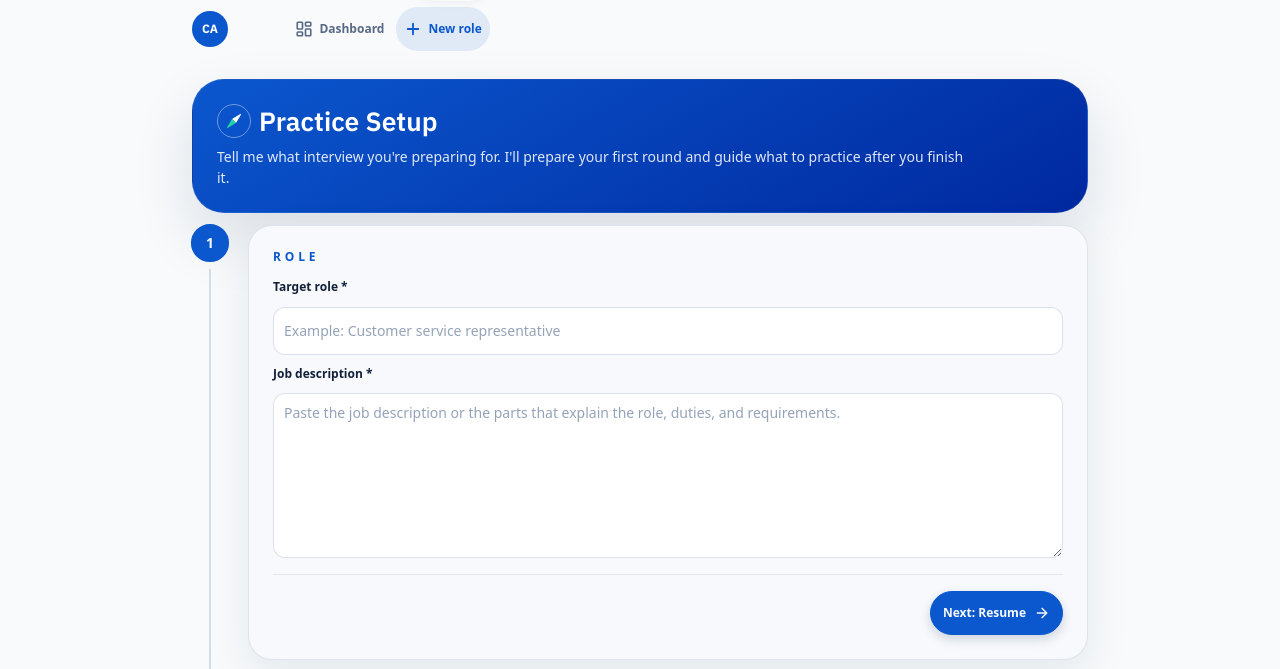
it: shows a setup-start error if the session boundary rejects the payload
In the field labelled "Target role *": (668, 331) [273, 307, 1063, 355], type "Customer service representative"
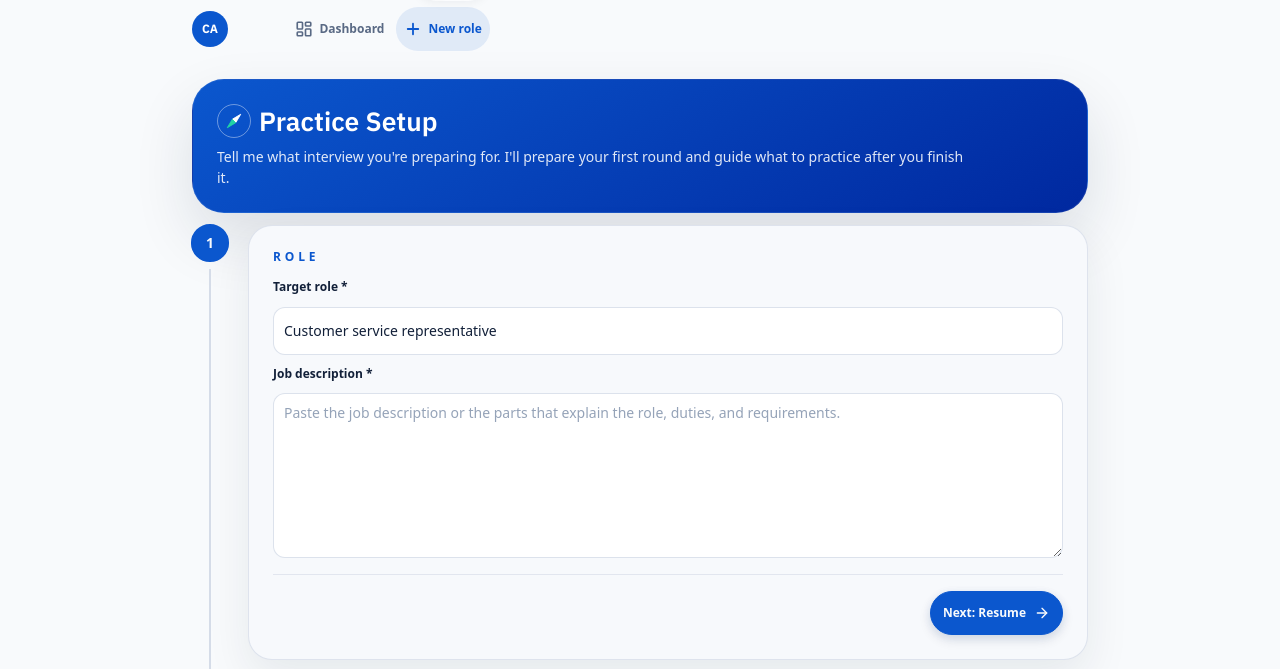
Replace the text in the text box labelled "Job description *" with "Help customers resolve service questions.": (668, 476) [273, 393, 1063, 558]
(page scrolled)
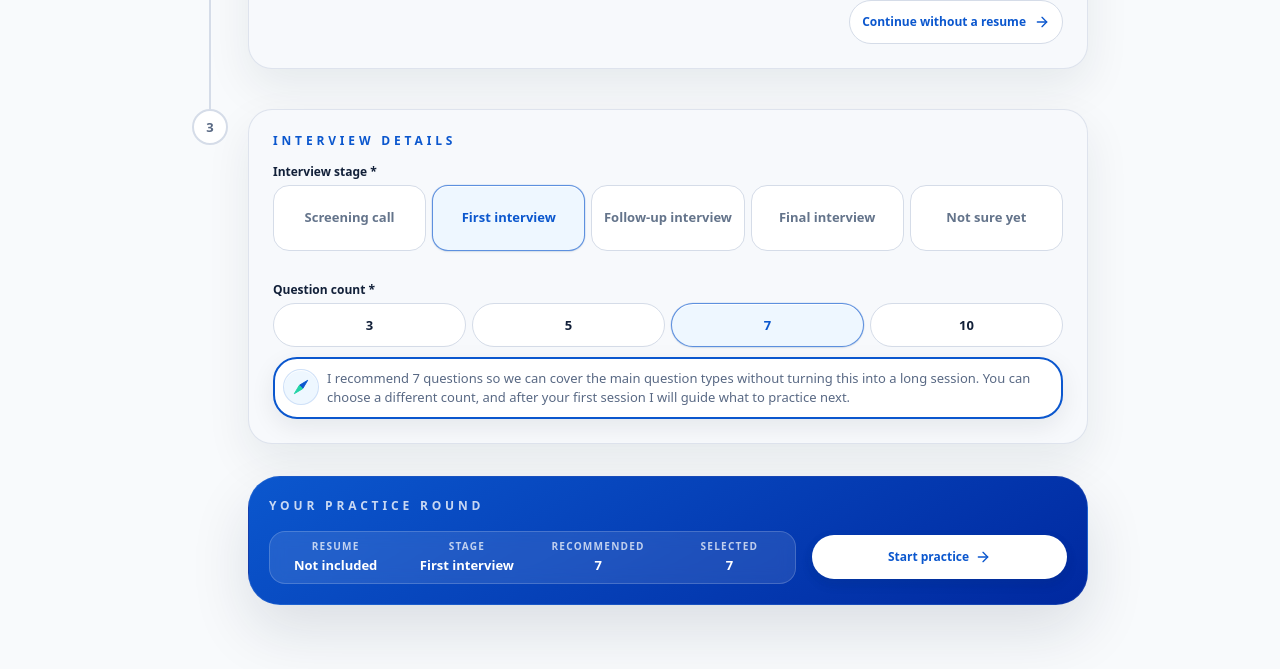
Click the button "Start practice": (940, 558) [812, 536, 1067, 580]
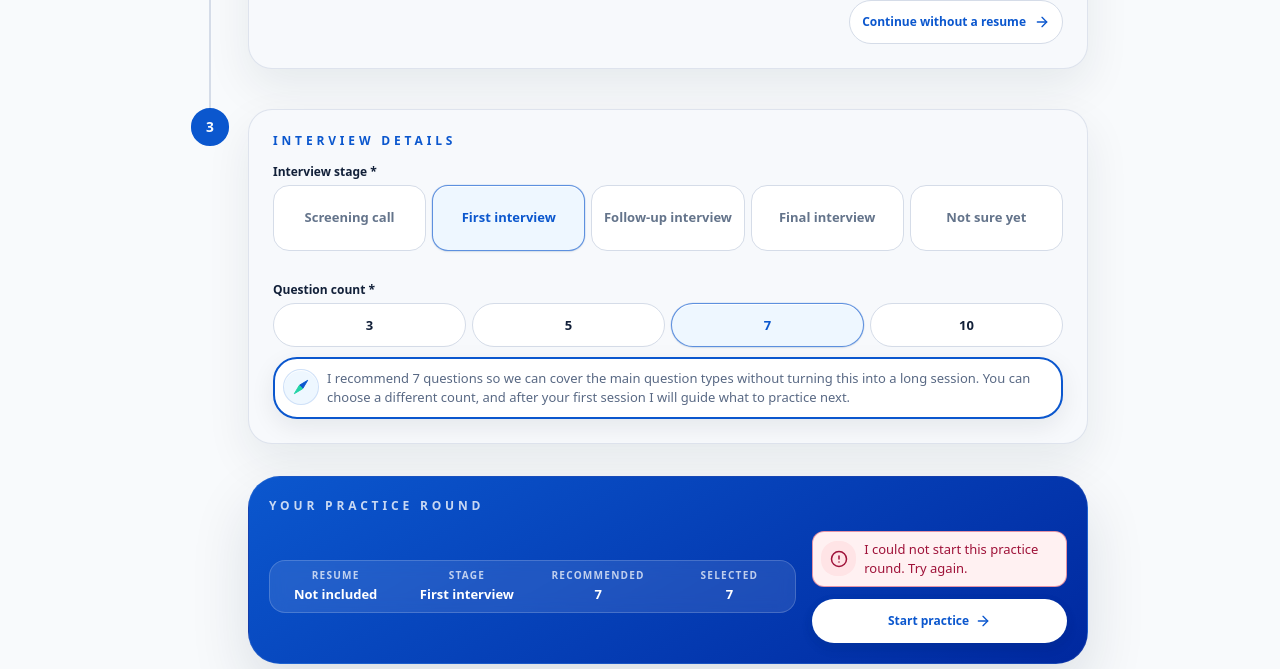
expect the message reads "I could not start this practice round. Try again.": met, box [864, 540, 1038, 577]
